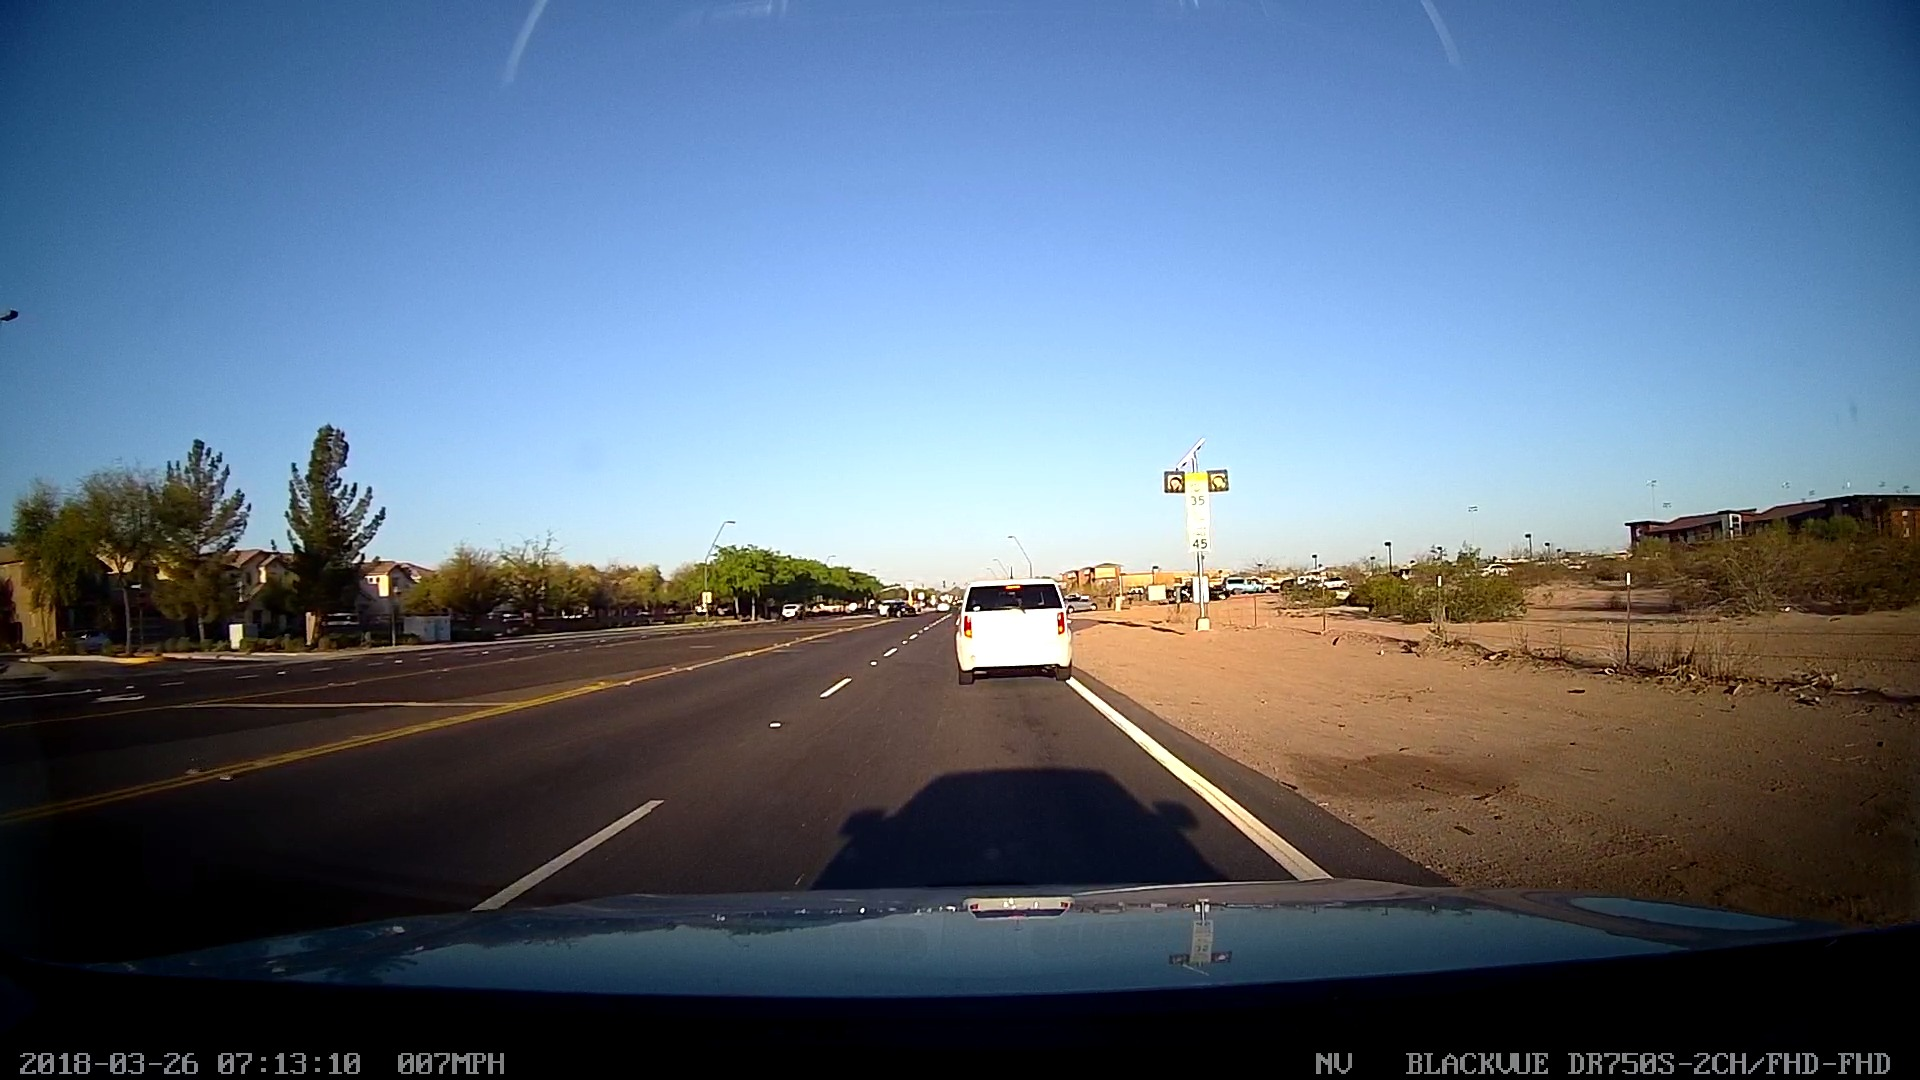vehicle: (949, 568, 1077, 688)
